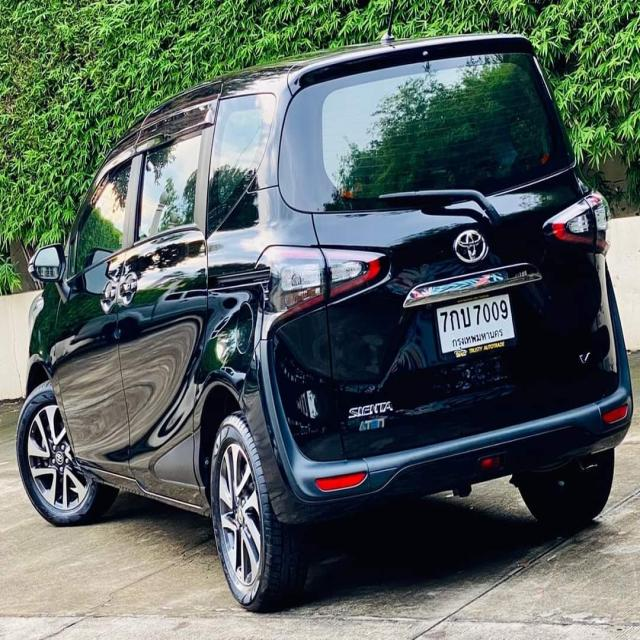license_plate: (428, 287, 520, 364)
